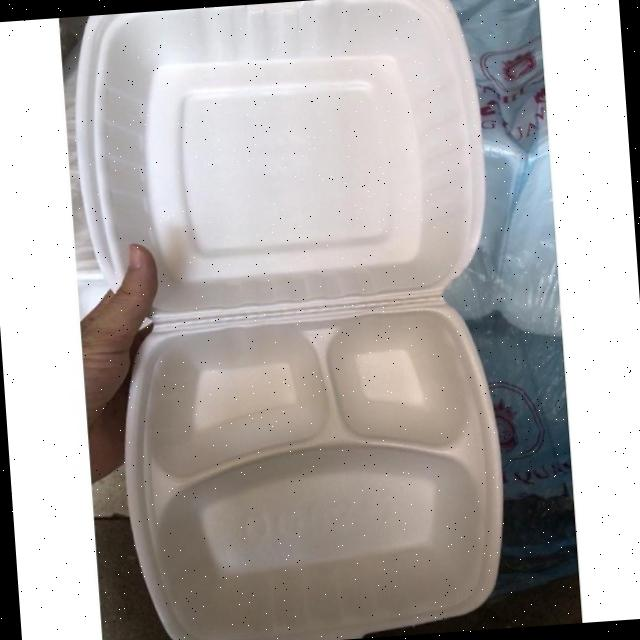styrofoam: (64, 0, 520, 640)
